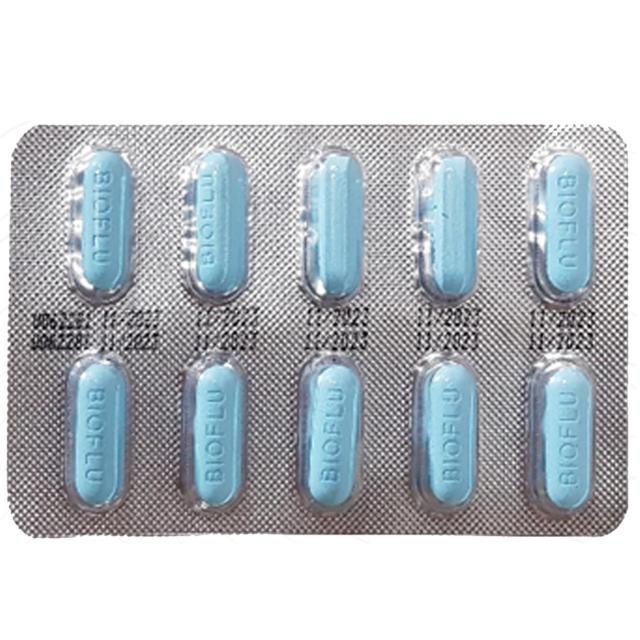blister: (6, 122, 636, 545)
